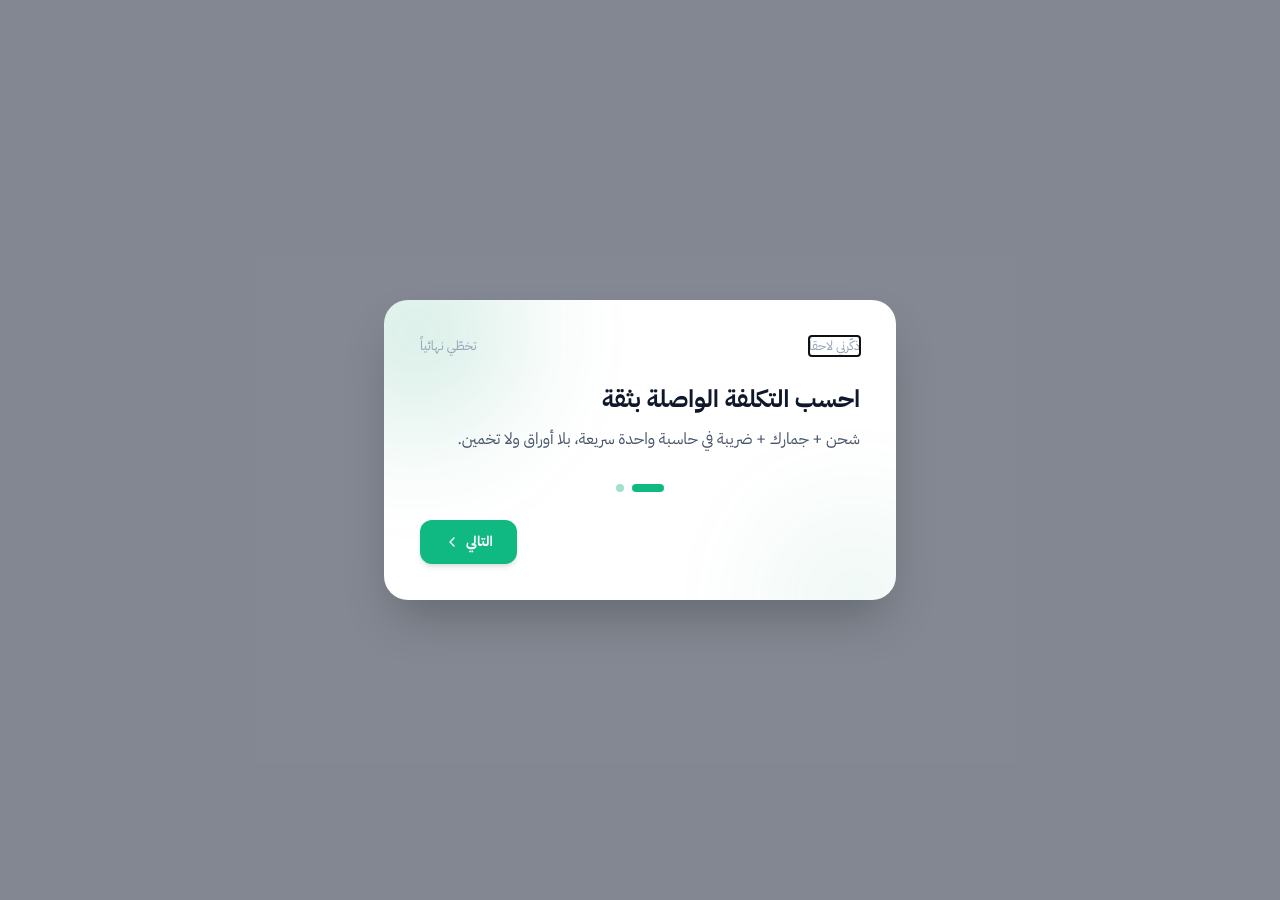
Scenario: WelcomeCarouselDesktop › shows the first slide and advances to the next on click
Expected: the heading "احسب التكلفة الواصلة بثقة" is shown, [602,381,860,417]
Click the button "التالي" at (468, 542), box [420,520,517,564]
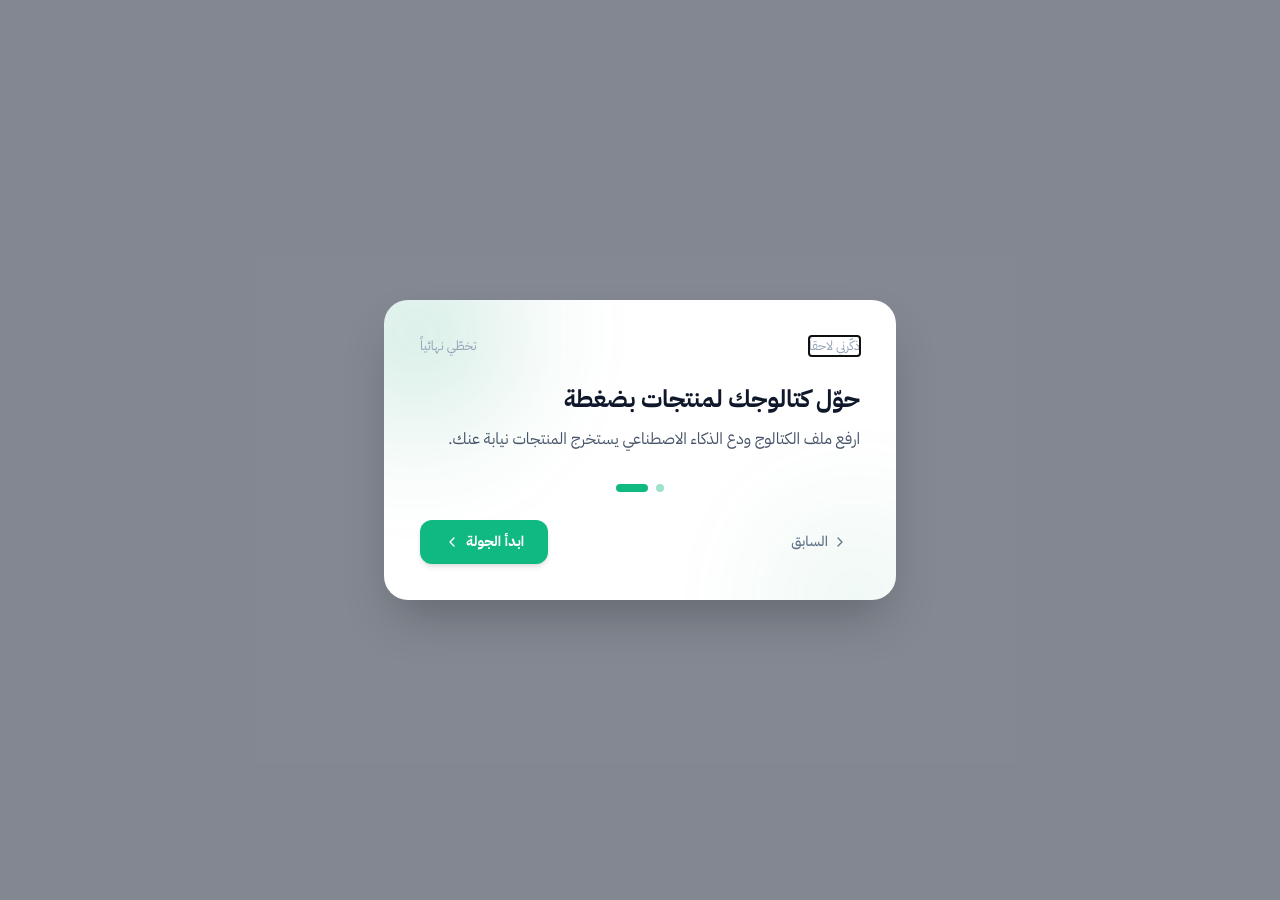
Expected: the heading "حوّل كتالوجك لمنتجات بضغطة" is shown, [564,381,860,417]
